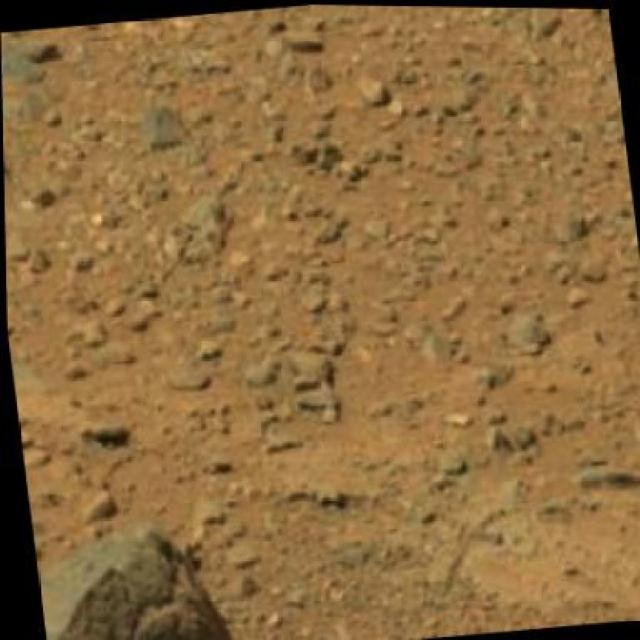rock: (28, 506, 258, 639)
